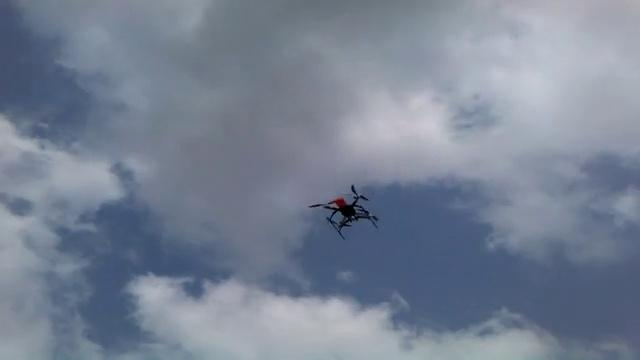drone: (305, 181, 379, 241)
